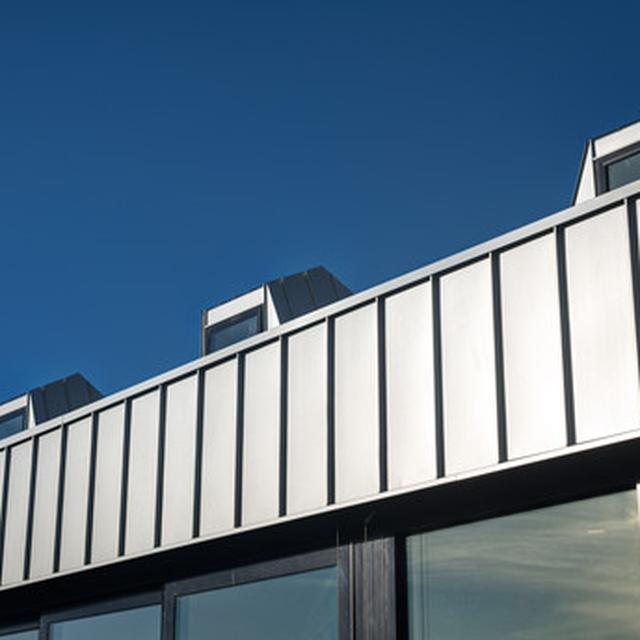building: (0, 265, 640, 640)
